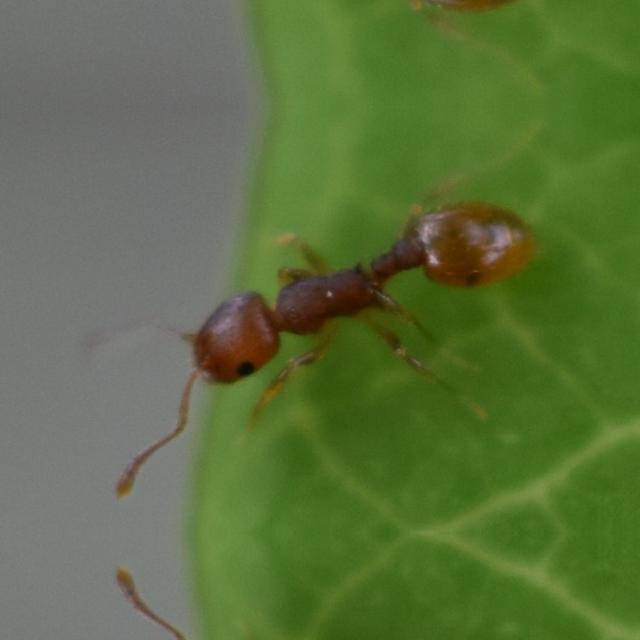Temnothorax: (124, 164, 574, 436)
